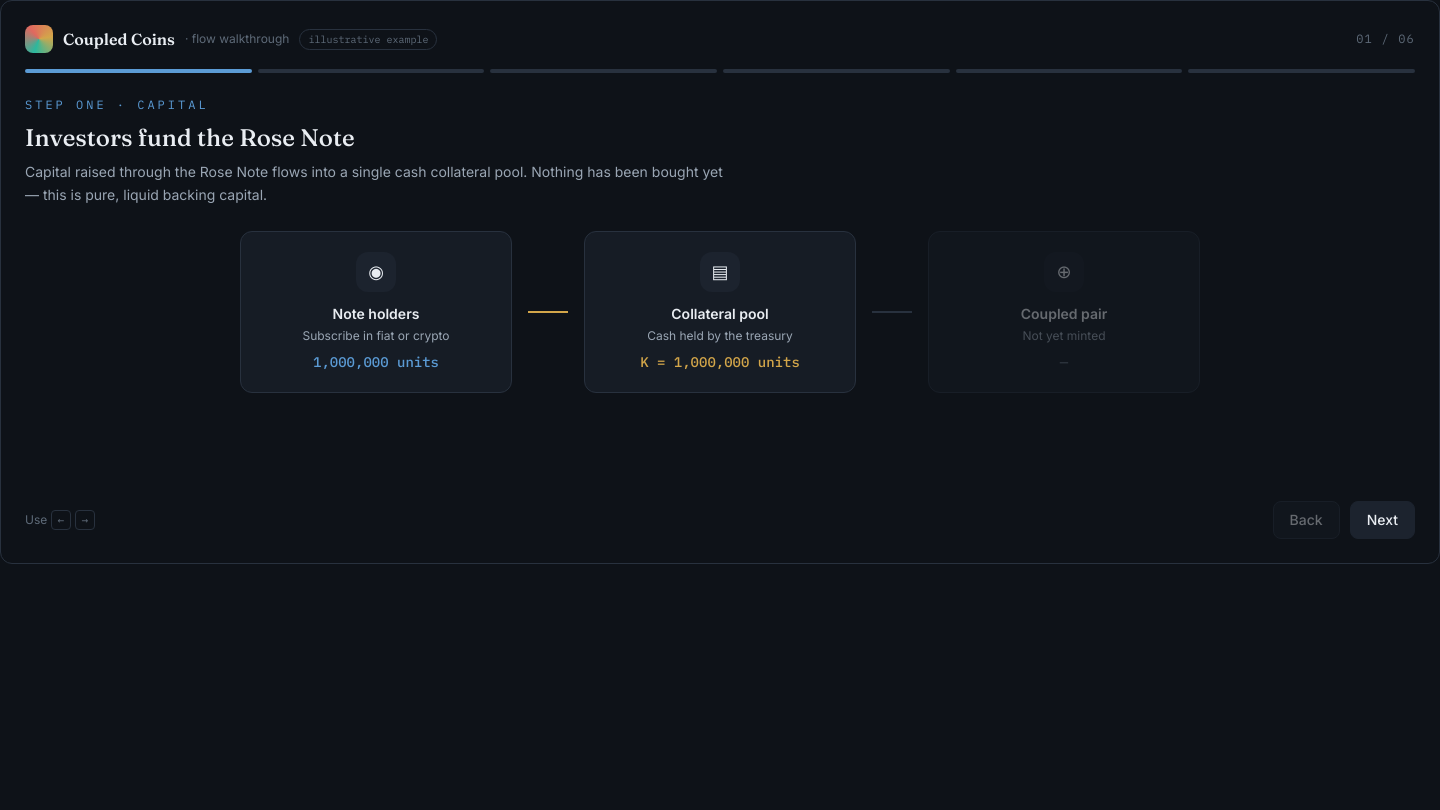
Scenario: CoupledCoinsWalkthrough › suppresses auto-play (no Play control) under prefers-reduced-motion
# Manual navigation still works.
Click the button "Next".
click(1382, 520)  # box x1=1350 y1=501 x2=1415 y2=539
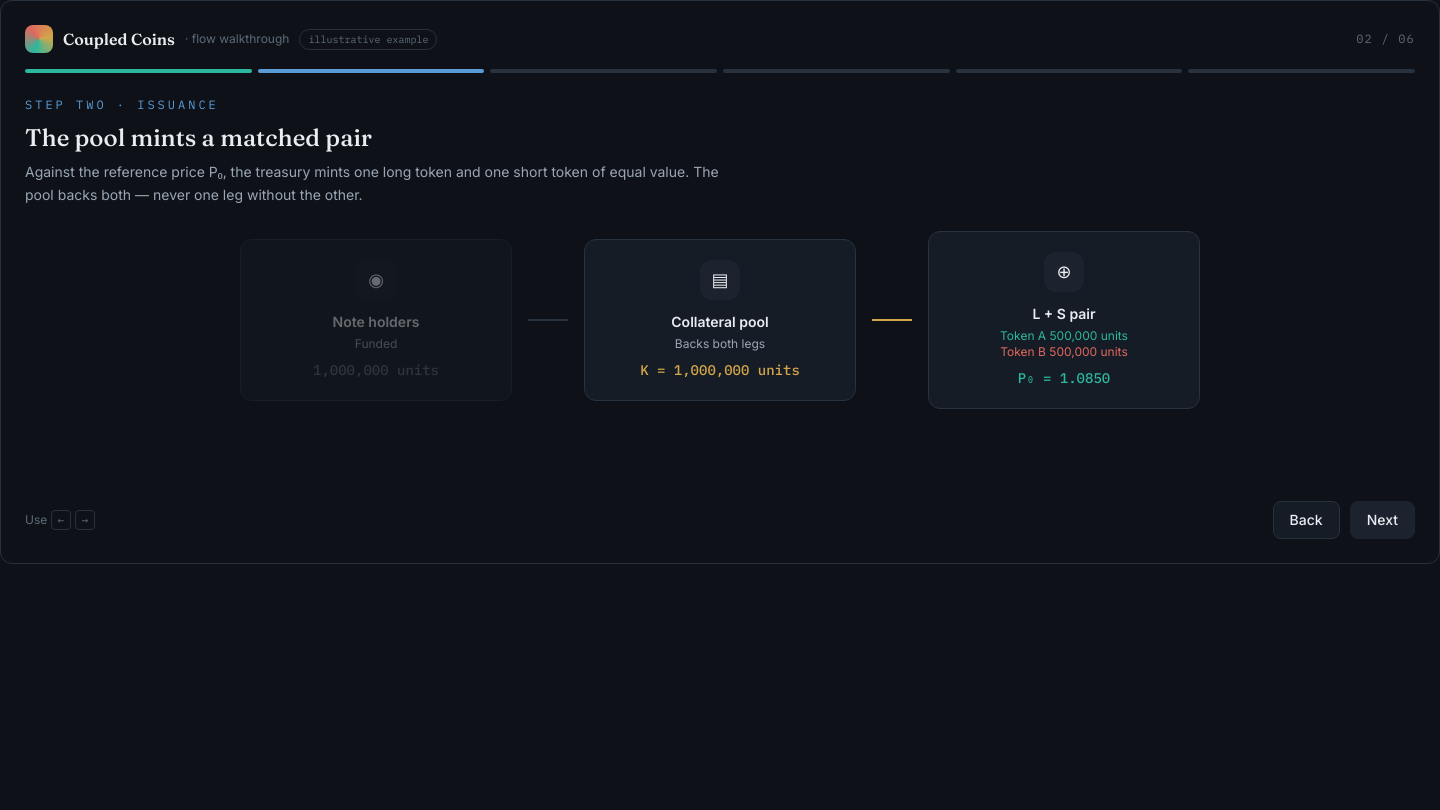
Result: the text "02 / 06" is shown at x1=1356 y1=31 x2=1415 y2=47
